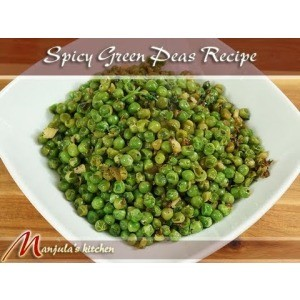green pea_brain food: (77, 111, 217, 201)
